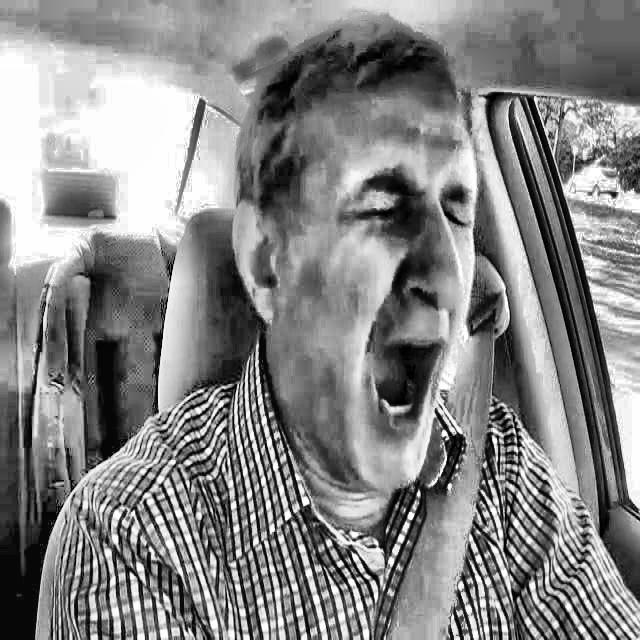closed_eyes: (336, 185, 410, 243), (436, 189, 494, 242)
open_mouth: (347, 312, 457, 451)
